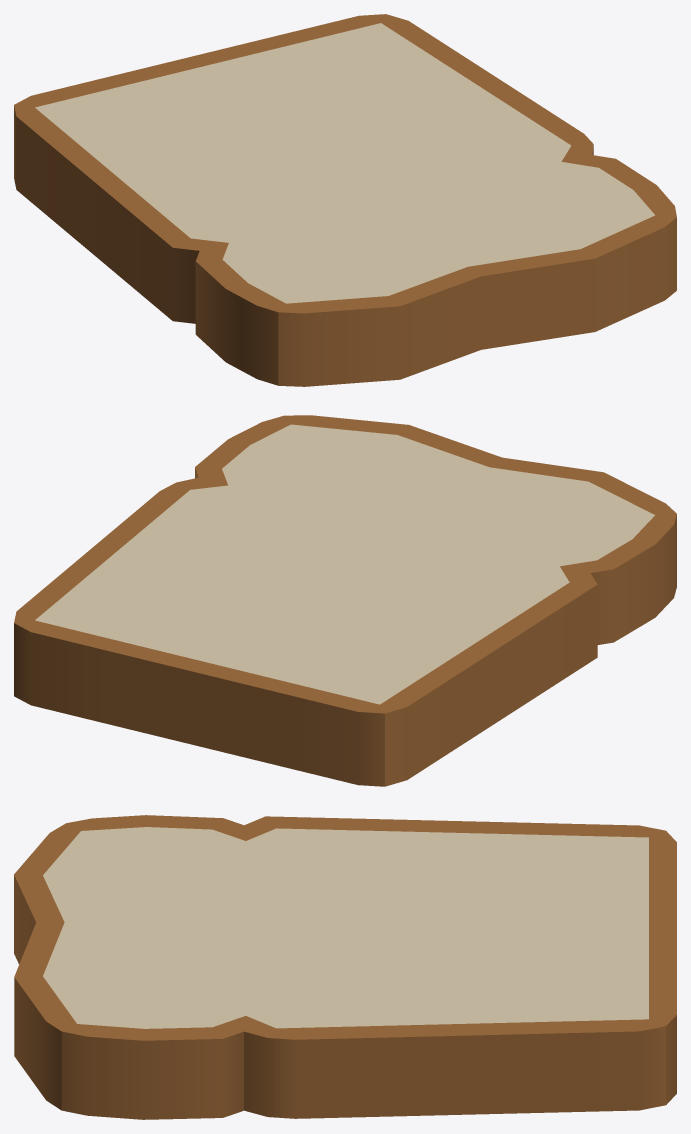
The model's file is Toast.fbx.
The picture shows the model from 3 angles, top to bottom: view 1: azimuth 30°, elevation 25°; view 2: azimuth 150°, elevation 25°; view 3: azimuth 270°, elevation 25°; orthographic projection. The views are drawn at different scales.
Visible parts, largest first — view 1: FORK:Toast; view 2: FORK:Toast; view 3: FORK:Toast.
Boxes of the visible parts, x1,y1,x2,y2 form: FORK:Toast: (14,14,676,386); FORK:Toast: (14,415,676,786); FORK:Toast: (14,815,676,1119).
Bounding box in the file's own units: 19.14 × 3.13 × 23.77.
